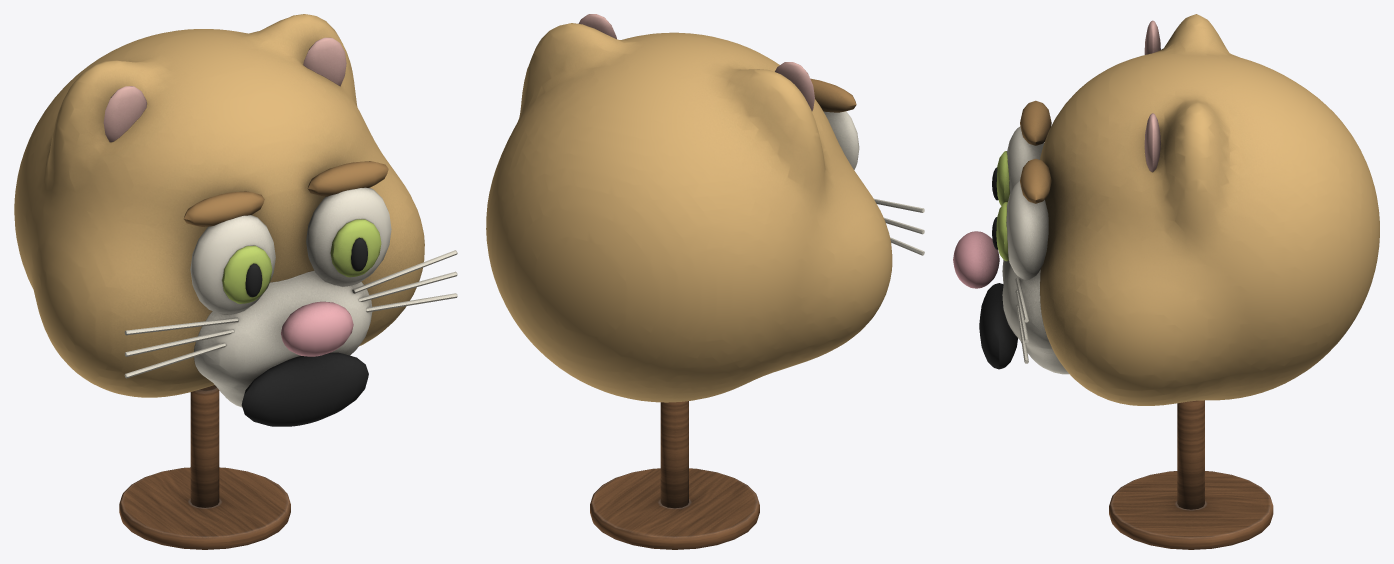
The model's file is WFMascotHead.fbx.
3 views of the same model, side by side, from view 1: azimuth 30°, elevation 25°; view 2: azimuth 150°, elevation 25°; view 3: azimuth 270°, elevation 25° (orthographic). The views are drawn at different scales.
Parts seen in each view (by area): view 1: WFMascotHead; view 2: WFMascotHead; view 3: WFMascotHead.
Boxes of the visible parts, <box> form: WFMascotHead: <box>14,14,457,549</box>; WFMascotHead: <box>486,14,924,549</box>; WFMascotHead: <box>953,14,1379,549</box>.
Bounding box in the file's own units: 435 × 548 × 467.
